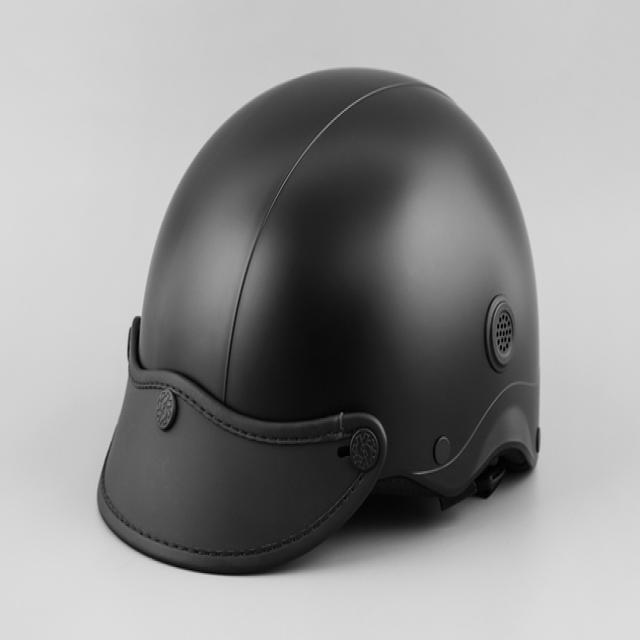Helmet: (94, 68, 550, 593)
